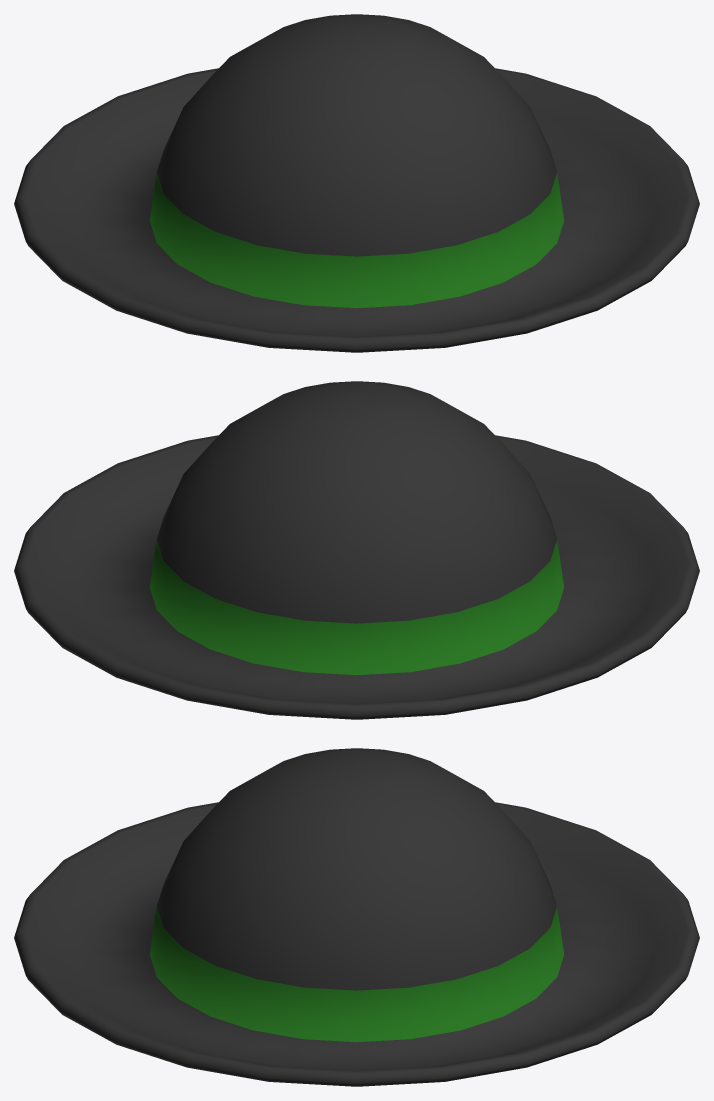
File: hatBowler.fbx
3 views of the same model, one above another, from view 1: azimuth 30°, elevation 25°; view 2: azimuth 150°, elevation 25°; view 3: azimuth 270°, elevation 25° (orthographic).
Parts seen in each view (by area): view 1: Bowler Hat; view 2: Bowler Hat; view 3: Bowler Hat.
Boxes of the visible parts, <box> form: Bowler Hat: <box>14,14,699,352</box>; Bowler Hat: <box>14,381,699,719</box>; Bowler Hat: <box>14,748,699,1086</box>.
Bounding box in the file's own units: 22.87 × 22.87 × 7.51.
